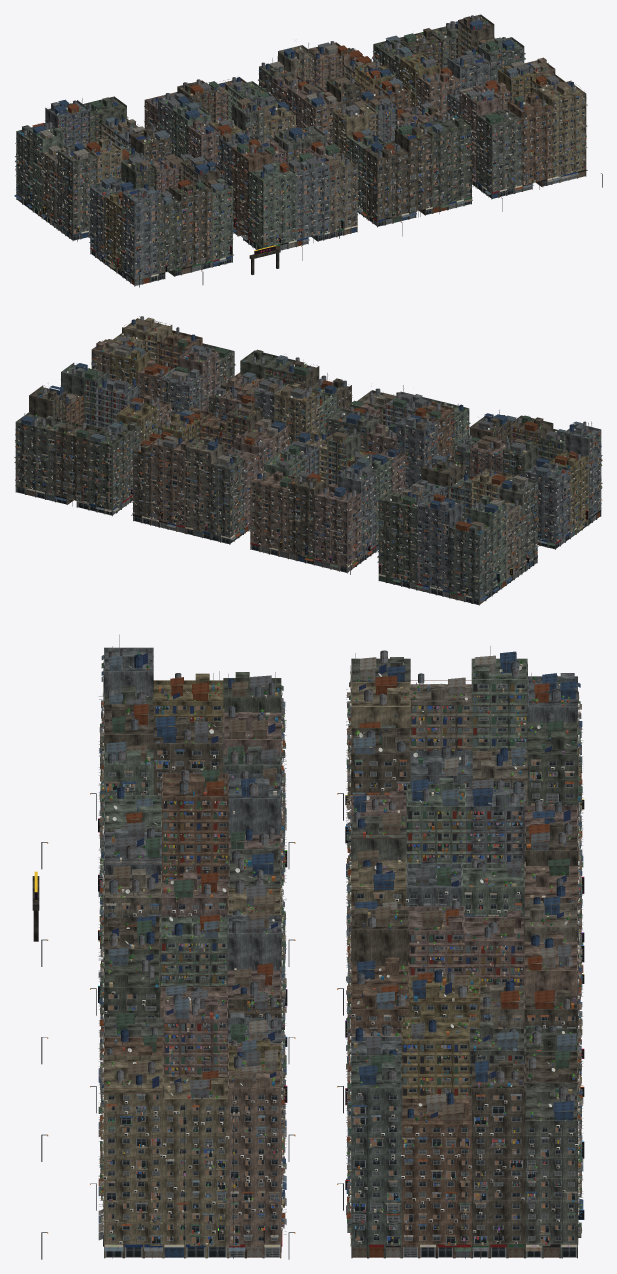
Rendered from enclave.glb.
3 views of the same model, one above another, from view 1: azimuth 30°, elevation 25°; view 2: azimuth 150°, elevation 25°; view 3: azimuth 270°, elevation 25° (orthographic). The views are drawn at different scales.
Parts seen in each view (by area): view 1: lot0, lot3, lot1, lot2, lot4, lot7, lot6, lot5, street; view 2: lot4, lot5, lot7, lot6, lot0, lot3, lot1, lot2; view 3: lot7, lot3, lot4, lot6, lot5, lot1, lot0, lot2, street.
Part boxes in pixels (<box>): lot0: <box>89,152,233,286</box>; lot3: <box>447,57,587,199</box>; lot1: <box>217,119,359,250</box>; lot2: <box>332,97,473,227</box>; lot4: <box>14,96,171,240</box>; lot7: <box>372,14,525,116</box>; lot6: <box>258,41,411,144</box>; lot5: <box>144,77,296,166</box>; street: <box>77,173,602,287</box>; lot4: <box>377,454,538,605</box>; lot5: <box>248,427,406,573</box>; lot7: <box>14,363,171,516</box>; lot6: <box>131,402,288,544</box>; lot0: <box>455,410,602,549</box>; lot3: <box>91,316,235,414</box>; lot1: <box>325,385,470,489</box>; lot2: <box>208,349,352,445</box>; lot7: <box>345,1011,584,1258</box>; lot3: <box>98,990,286,1258</box>; lot4: <box>345,646,584,893</box>; lot6: <box>345,894,584,1106</box>; lot5: <box>346,773,584,1020</box>; lot1: <box>98,768,287,1012</box>; lot0: <box>98,634,287,896</box>; lot2: <box>98,878,287,1136</box>; street: <box>32,793,343,1259</box>.
Size of the model in its own units: 256 by 50.45 by 134.
Materials: 7 (6 with a texture image).
